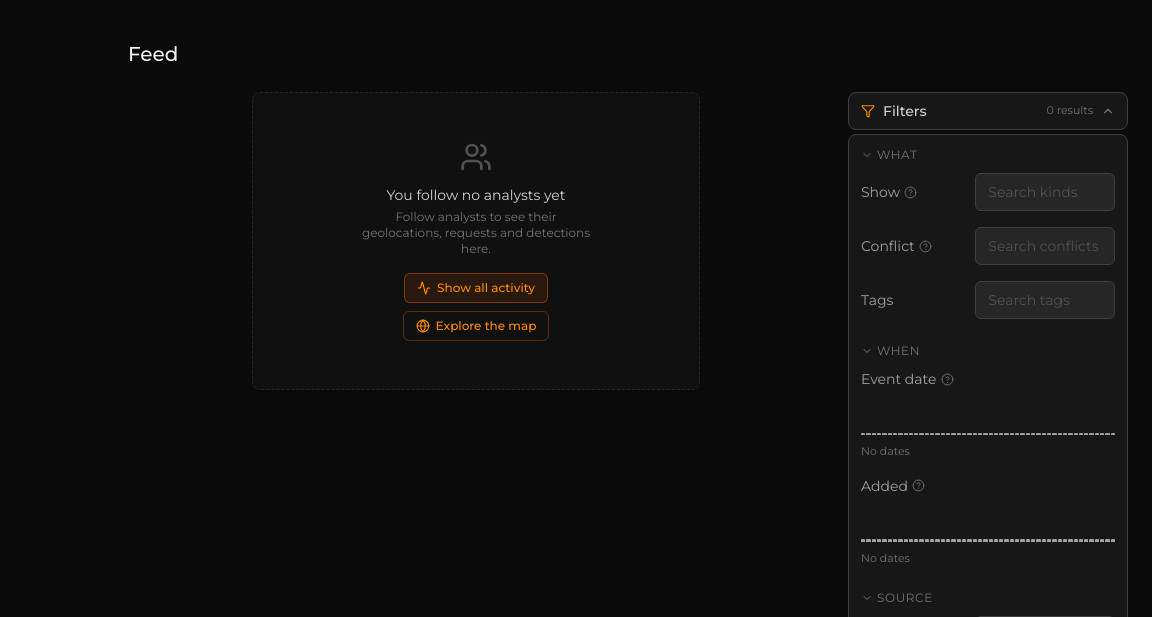
FeedPage › says nothing matched the filters instead of the follow prompts
Focus the dropdown named "Show" at (1045, 192), box [975,173,1115,211]
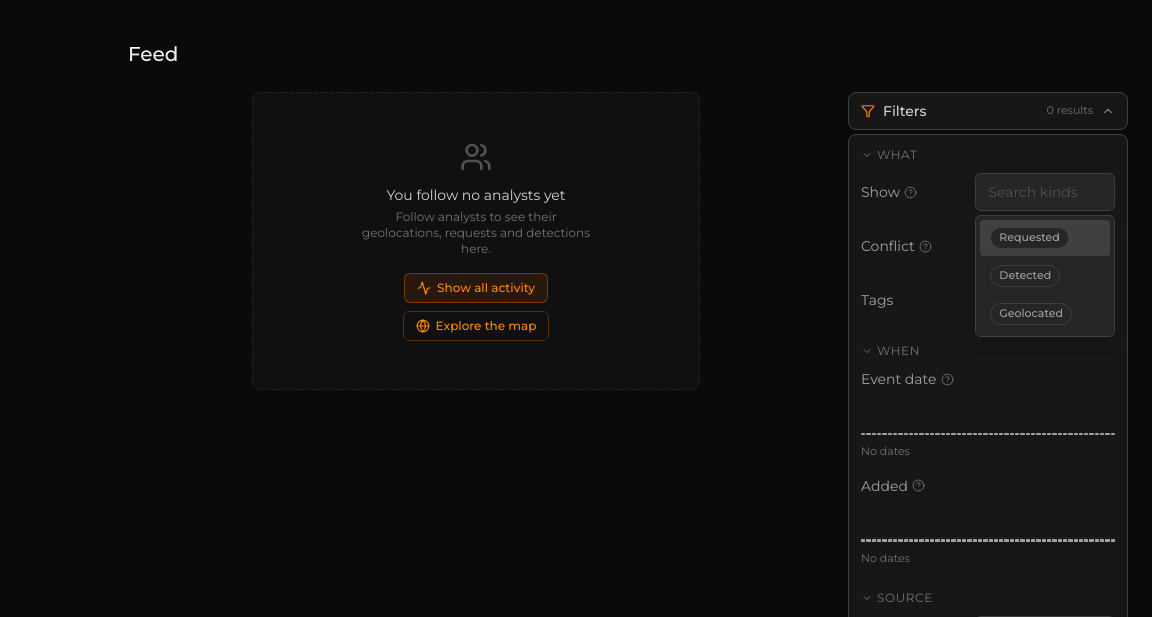
Click the option "Requested" at (1045, 238), box [980,220,1110,256]
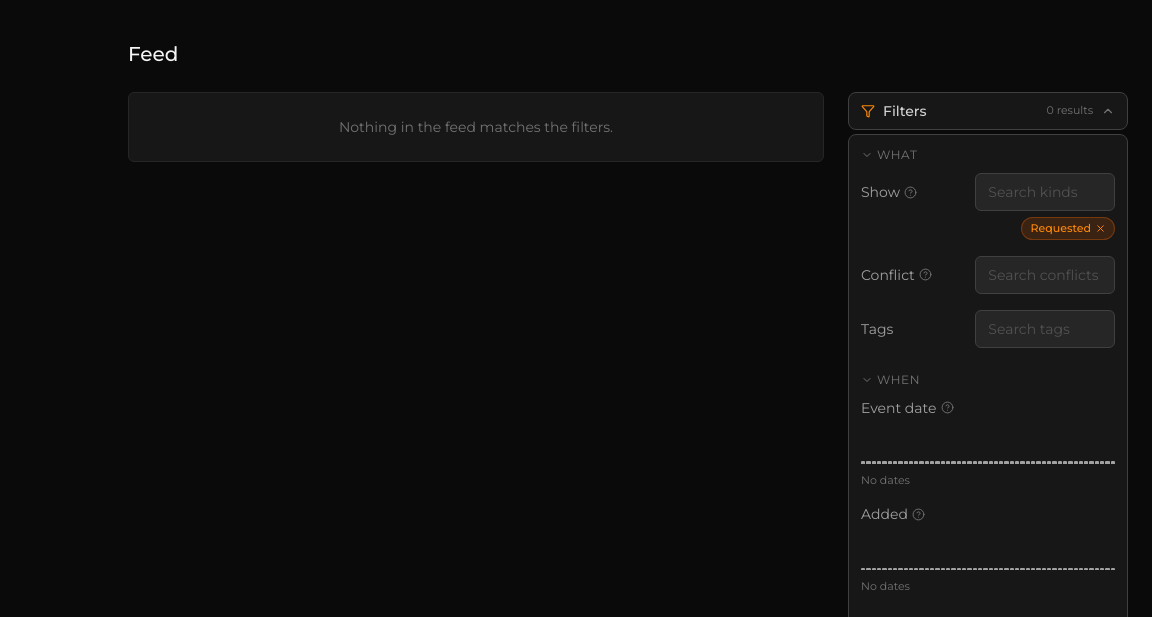
Expected: the text "Nothing in the feed matches the filters." is shown, [128,92,824,162]
Expected: the text "You follow no analysts yet" is gone
